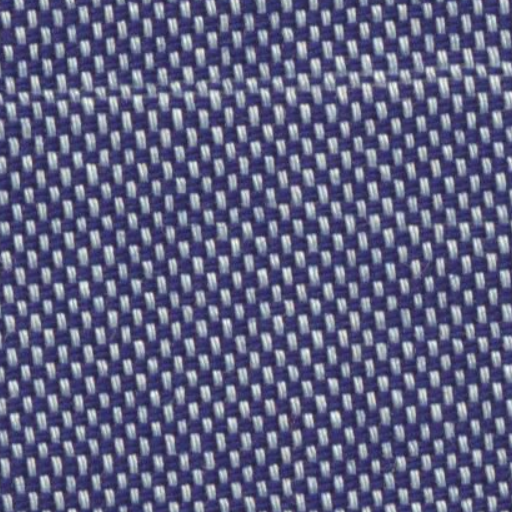TuoSha: (20, 50, 496, 142)
